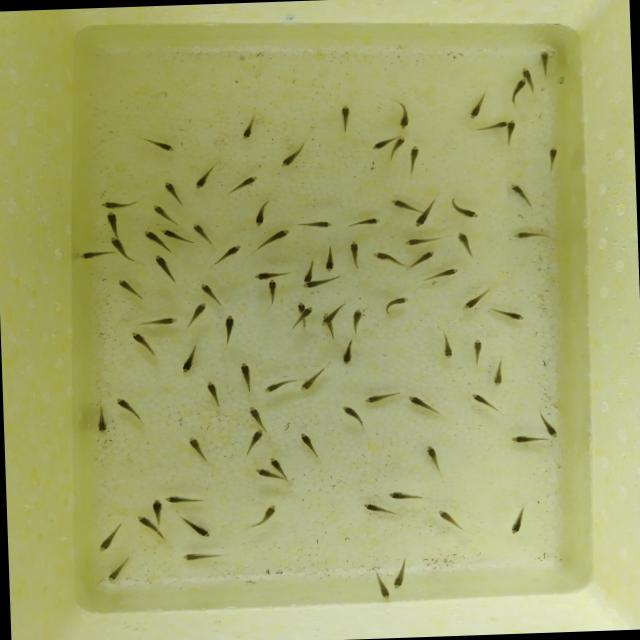fingerling: (146, 224, 188, 252), (172, 513, 212, 540), (252, 225, 292, 252), (103, 552, 135, 584), (112, 392, 146, 422), (130, 330, 160, 360), (434, 508, 468, 534), (182, 300, 210, 330), (420, 264, 462, 284), (248, 502, 280, 528), (505, 502, 528, 538), (223, 173, 260, 195), (96, 523, 122, 554), (369, 570, 394, 602), (390, 554, 412, 590), (276, 142, 304, 170), (508, 226, 554, 243), (369, 248, 406, 269), (295, 215, 340, 232), (359, 501, 401, 519), (204, 379, 228, 410), (152, 254, 178, 282), (301, 363, 330, 388), (405, 392, 435, 416), (178, 342, 202, 372), (138, 136, 178, 154), (458, 288, 490, 310), (384, 486, 428, 502), (471, 392, 500, 416), (466, 90, 489, 120), (99, 195, 142, 211), (264, 376, 302, 394), (252, 194, 272, 228), (242, 428, 266, 456), (512, 182, 536, 210), (116, 277, 146, 299), (342, 215, 385, 230), (164, 491, 210, 505), (494, 304, 526, 324), (348, 305, 368, 337), (382, 295, 411, 317), (212, 245, 240, 267), (540, 411, 562, 439), (453, 230, 472, 262), (362, 388, 400, 404), (188, 218, 212, 243), (188, 435, 212, 460), (346, 240, 366, 270), (178, 550, 224, 563), (220, 314, 238, 346), (406, 142, 424, 174), (246, 404, 268, 430), (162, 178, 184, 204), (394, 100, 413, 130), (298, 431, 318, 459), (140, 313, 180, 327), (402, 234, 442, 248), (342, 404, 366, 427), (449, 198, 478, 217), (408, 249, 436, 268), (191, 167, 214, 190), (94, 402, 110, 434), (490, 359, 507, 389), (387, 196, 417, 213), (471, 118, 507, 132), (150, 203, 176, 222), (507, 434, 548, 446), (467, 336, 483, 366), (509, 78, 527, 104), (299, 256, 317, 282), (238, 116, 256, 142), (422, 442, 439, 469), (264, 280, 280, 308), (256, 268, 293, 280), (239, 362, 256, 388), (324, 238, 337, 272), (197, 280, 219, 300), (546, 145, 562, 172), (440, 331, 455, 359), (339, 104, 354, 132), (78, 248, 108, 262), (133, 513, 155, 531), (340, 340, 356, 364), (538, 49, 552, 76), (104, 210, 119, 234), (412, 213, 432, 230), (109, 235, 127, 253), (150, 496, 164, 518), (252, 466, 272, 480), (506, 118, 516, 146), (369, 139, 387, 151), (269, 456, 283, 471), (319, 314, 336, 326), (392, 136, 407, 149), (301, 280, 320, 290), (300, 305, 315, 317), (519, 66, 532, 78)
